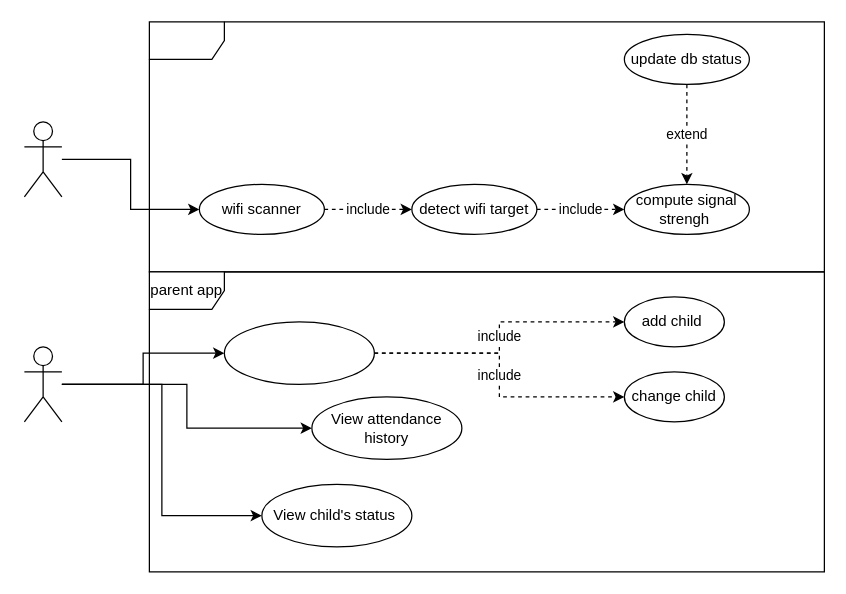
This 846x594 diagram has some shape labels left out. Each missing label, with the centre of its shape:
"child" belongs at [42,159].
"child app" belongs at [486,146].
"Managing multiple children" belongs at [298,352].
"parent" belongs at [42,384].
